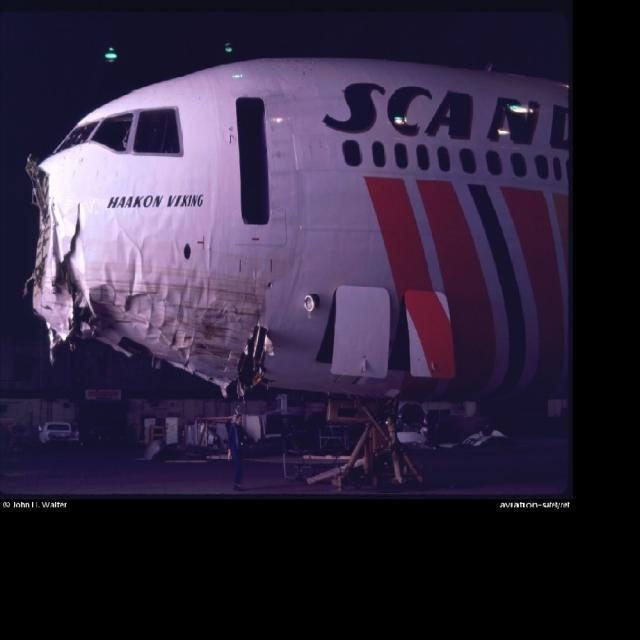crack: (57, 201, 90, 296)
dent: (100, 234, 238, 375)
